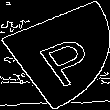P_NW: (17, 24, 93, 86)
